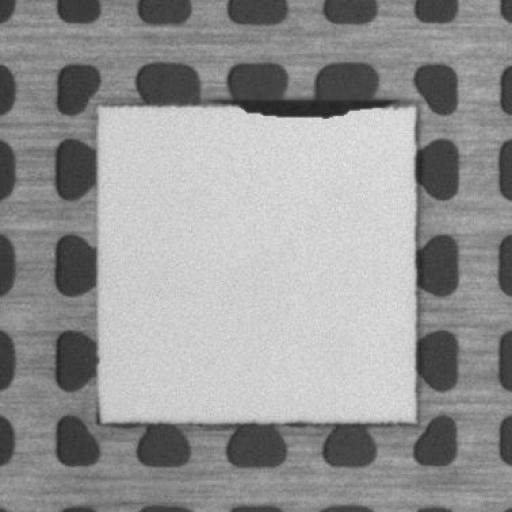DIE_BROKEN: (216, 93, 400, 119)
